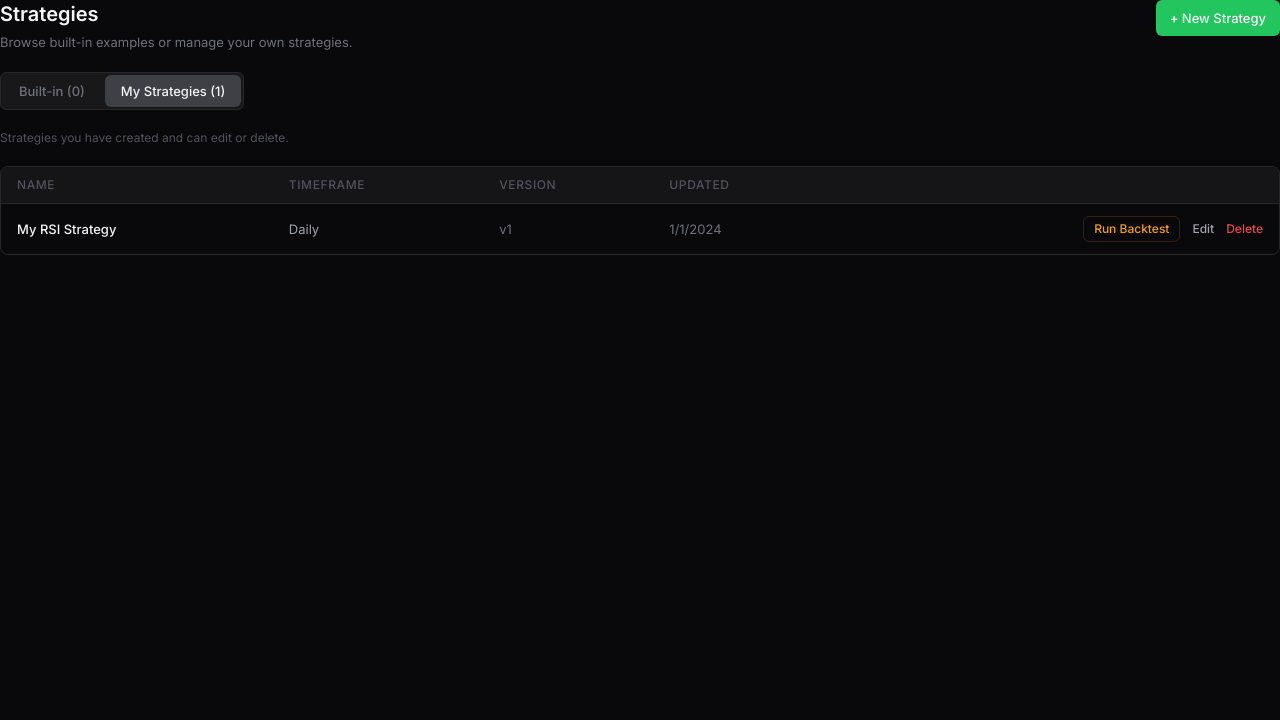
Test: StrategiesPage delete confirmation › closes the dialog and does not delete when Cancel is clicked
Click the button "Delete": (1245, 229) top-left (1226, 221), bottom-right (1263, 237)
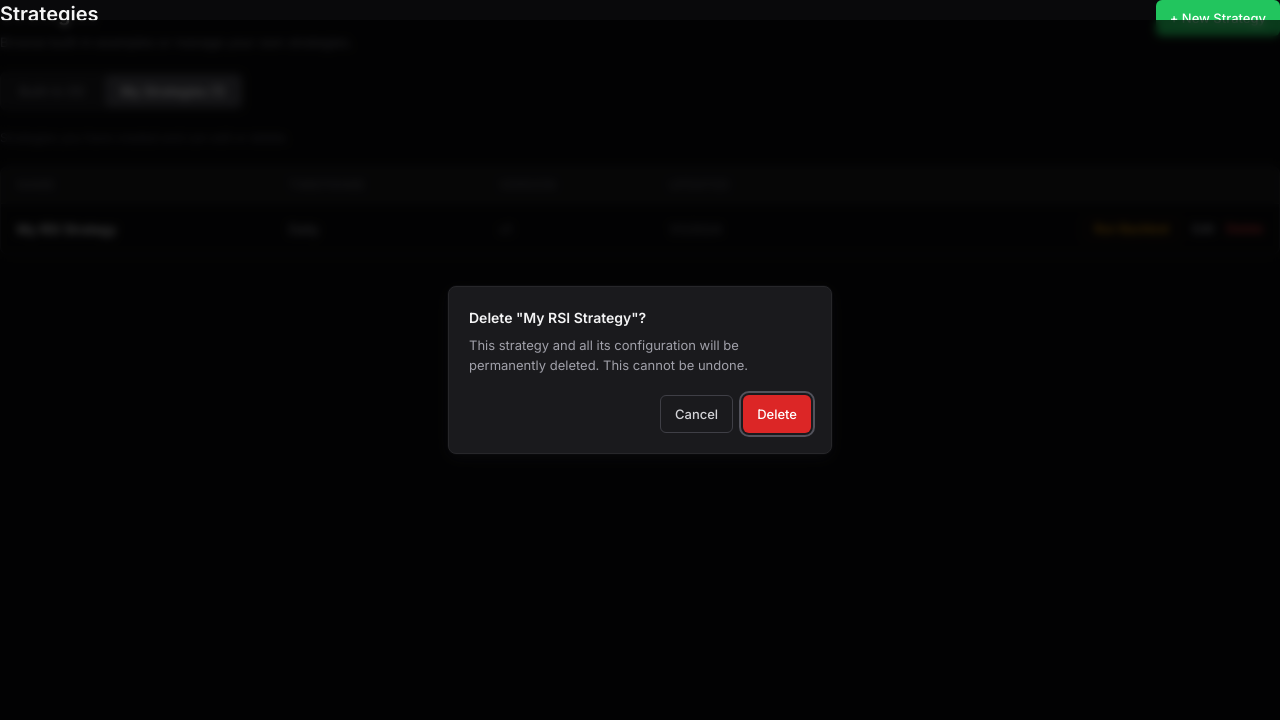
Check: the dialog is shown, box top-left (448, 286), bottom-right (832, 454)
Click the button "Cancel": (697, 414) top-left (660, 395), bottom-right (733, 433)
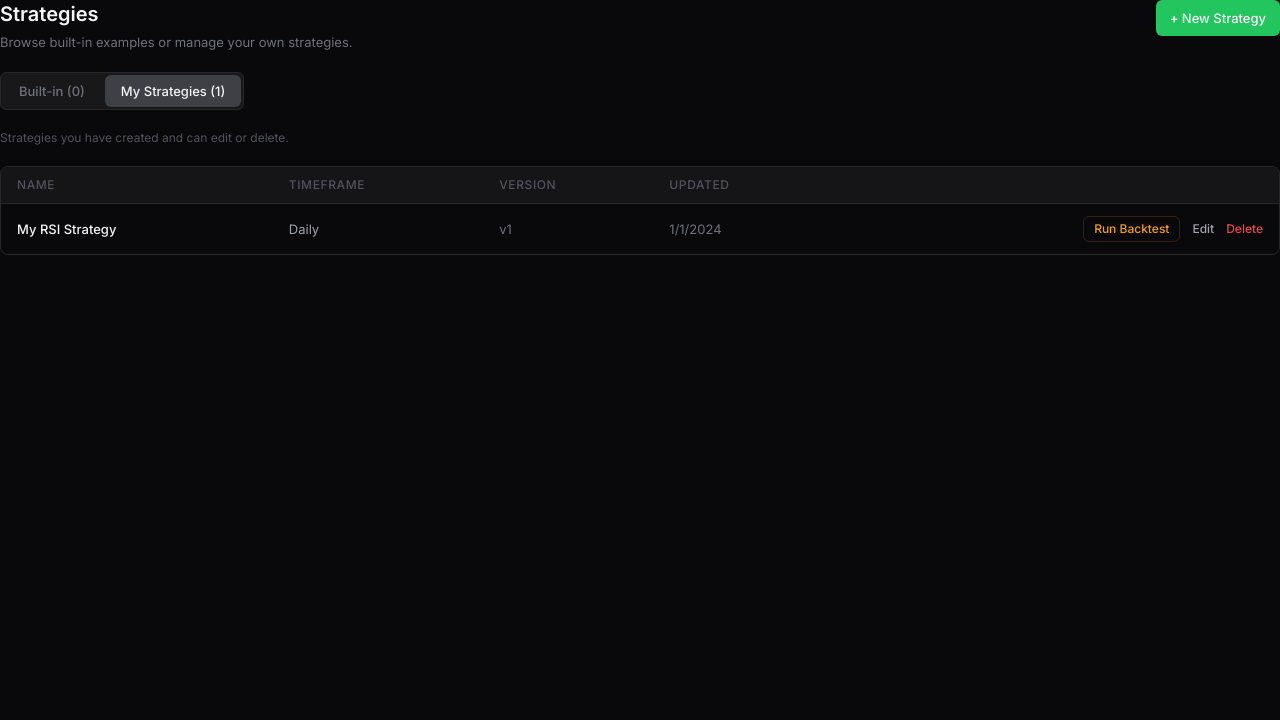
Check: the dialog is gone
